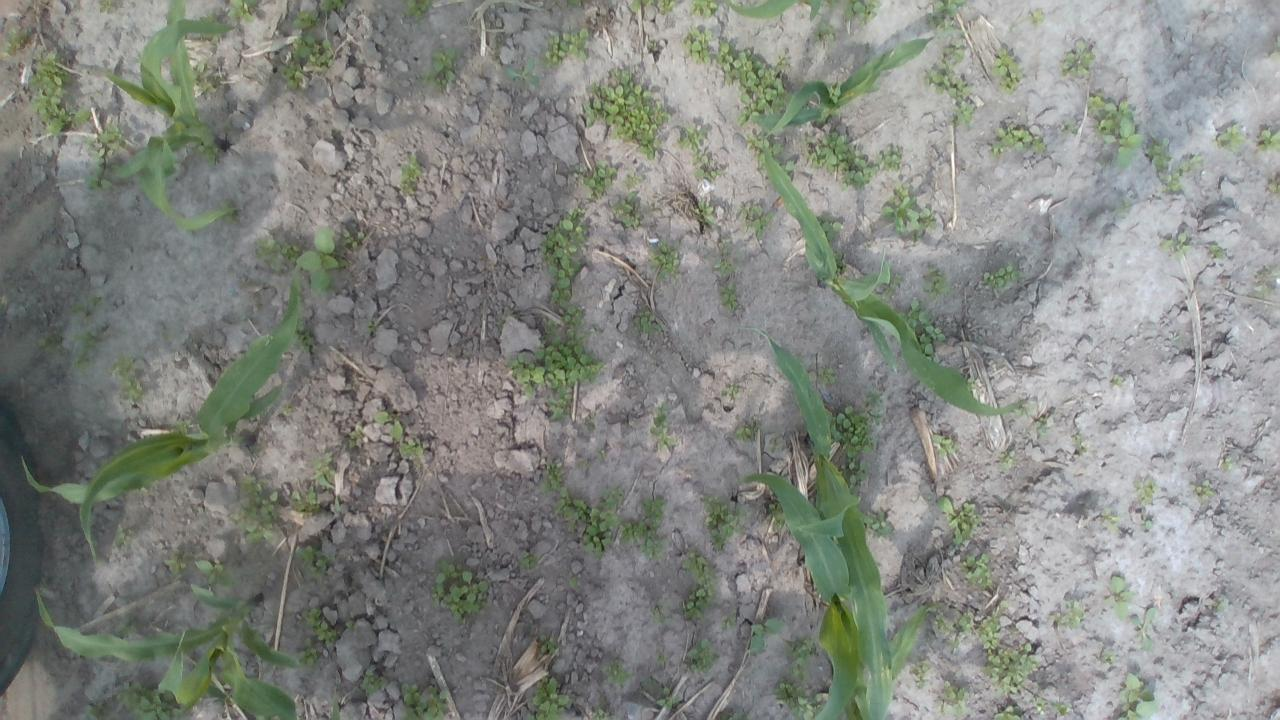Maize: (21, 266, 302, 560), (757, 138, 1022, 419), (757, 325, 896, 720), (32, 585, 299, 720), (98, 0, 238, 230), (742, 472, 865, 720), (748, 27, 966, 130), (832, 604, 942, 720), (714, 0, 824, 21)
Weeds: (582, 65, 670, 161), (715, 38, 788, 128), (801, 128, 880, 194), (538, 207, 590, 305), (1088, 92, 1143, 170), (534, 333, 603, 393), (428, 558, 489, 623), (294, 225, 345, 297), (880, 182, 937, 246), (27, 47, 68, 134), (895, 299, 945, 367), (981, 642, 1040, 696), (680, 545, 720, 624), (115, 680, 188, 720), (238, 476, 280, 544), (700, 493, 749, 551), (825, 404, 877, 458), (936, 494, 981, 546), (774, 678, 828, 720), (1113, 672, 1159, 720), (106, 350, 146, 405), (580, 509, 620, 561), (524, 675, 570, 720), (400, 680, 451, 720), (990, 127, 1048, 162), (618, 517, 664, 561), (989, 46, 1026, 98), (422, 48, 461, 96), (1102, 574, 1140, 623), (574, 160, 618, 201), (507, 354, 546, 400), (543, 25, 590, 62), (254, 238, 302, 274), (924, 64, 974, 98), (300, 604, 340, 646), (292, 33, 334, 72), (295, 542, 338, 580), (1059, 38, 1097, 80), (1158, 156, 1200, 194), (782, 636, 818, 680), (1128, 606, 1160, 655), (925, 0, 967, 37), (555, 486, 590, 530), (746, 618, 786, 656), (86, 124, 122, 166), (744, 130, 784, 166), (648, 239, 681, 282), (194, 558, 237, 591), (685, 637, 722, 674), (958, 550, 994, 588), (740, 204, 774, 242), (681, 24, 713, 63), (834, 460, 870, 494), (502, 60, 544, 89), (70, 328, 97, 373), (679, 124, 710, 162), (1054, 598, 1088, 632), (649, 400, 673, 448), (921, 264, 951, 302), (397, 153, 424, 195), (938, 682, 969, 718), (981, 263, 1020, 291), (373, 408, 405, 442), (844, 0, 880, 30), (860, 507, 894, 538), (188, 61, 216, 98), (977, 607, 1001, 650), (640, 495, 670, 529), (934, 612, 960, 650), (1216, 124, 1248, 154), (558, 302, 586, 336), (1160, 232, 1194, 260), (614, 194, 640, 230), (312, 452, 336, 490), (190, 138, 220, 168), (601, 660, 633, 688), (1144, 140, 1172, 172), (947, 94, 973, 128), (1133, 475, 1161, 506), (290, 8, 323, 34), (814, 212, 844, 240), (278, 61, 306, 90), (84, 165, 114, 192), (544, 393, 572, 420), (864, 384, 882, 426), (227, 0, 260, 22), (829, 246, 849, 282), (290, 488, 320, 512), (638, 308, 664, 335), (337, 226, 364, 252), (293, 322, 316, 352), (655, 686, 681, 712), (909, 658, 931, 688), (766, 499, 788, 529), (876, 147, 901, 173), (360, 669, 386, 694), (1257, 126, 1280, 154), (36, 332, 64, 355), (718, 280, 738, 312), (1100, 508, 1122, 537), (396, 437, 426, 458), (932, 433, 958, 457), (542, 461, 562, 492), (1193, 478, 1218, 502), (942, 39, 966, 64), (598, 487, 626, 508), (298, 638, 320, 664), (991, 702, 1022, 720), (697, 200, 718, 226), (162, 554, 184, 578), (517, 548, 541, 570), (694, 162, 723, 180), (402, 0, 432, 17), (690, 0, 718, 18), (956, 608, 976, 633), (996, 450, 1016, 475), (222, 198, 240, 224), (816, 365, 838, 385), (1028, 8, 1050, 28), (624, 172, 646, 192), (115, 620, 139, 638), (777, 158, 795, 182), (347, 424, 364, 449), (1032, 415, 1052, 436), (538, 633, 558, 654), (734, 422, 756, 441), (4, 29, 26, 48), (319, 0, 346, 15), (814, 22, 836, 40), (1014, 400, 1036, 417), (66, 301, 88, 318), (629, 0, 655, 14), (1050, 697, 1070, 715), (1208, 240, 1226, 260), (1072, 433, 1089, 454), (656, 0, 678, 16), (72, 108, 92, 125), (713, 260, 737, 274), (650, 602, 664, 626), (114, 526, 128, 548), (1138, 515, 1156, 532), (170, 419, 188, 436), (720, 614, 739, 630), (1032, 696, 1048, 714), (592, 702, 608, 720), (1216, 596, 1234, 612), (718, 384, 738, 398), (891, 272, 908, 288), (1219, 455, 1235, 472), (86, 703, 102, 720), (1061, 118, 1078, 134), (197, 13, 218, 24), (88, 294, 103, 307), (1102, 652, 1116, 664), (823, 0, 841, 8), (1267, 183, 1280, 194), (99, 0, 113, 10), (596, 448, 606, 461), (639, 680, 655, 688), (566, 0, 580, 9), (1112, 374, 1122, 386), (656, 654, 666, 666), (367, 320, 376, 332), (568, 576, 577, 586), (650, 40, 657, 47)
